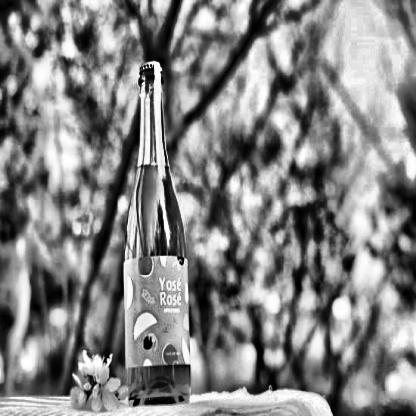yoserose: (123, 258, 191, 369)
